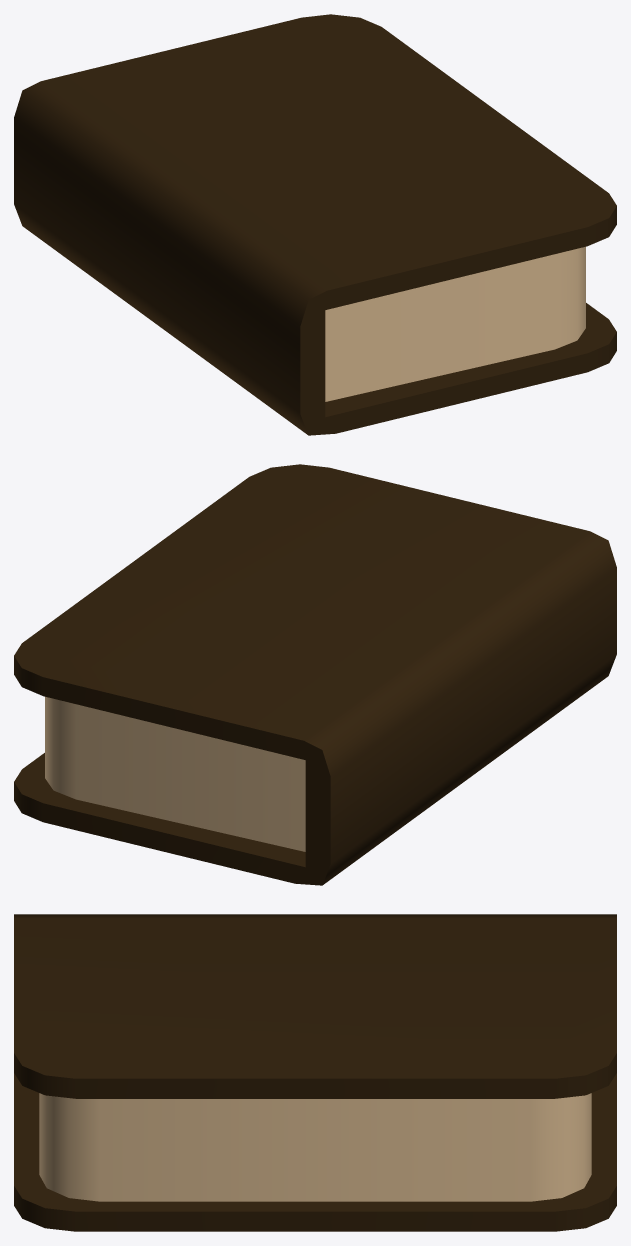
Rendered from book_closed.fbx.
3 renders of one model, top to bottom at view 1: azimuth 30°, elevation 25°; view 2: azimuth 150°, elevation 25°; view 3: azimuth 270°, elevation 25°, orthographic. The views are drawn at different scales.
Parts seen in each view (by area): view 1: book_closed; view 2: book_closed; view 3: book_closed.
Boxes of the visible parts, box(x1,y1,x2,y2) form: book_closed: box(14, 14, 616, 435); book_closed: box(14, 464, 616, 885); book_closed: box(14, 914, 616, 1231).
Bounding box in the file's own units: 39.01 × 16 × 57.18.
